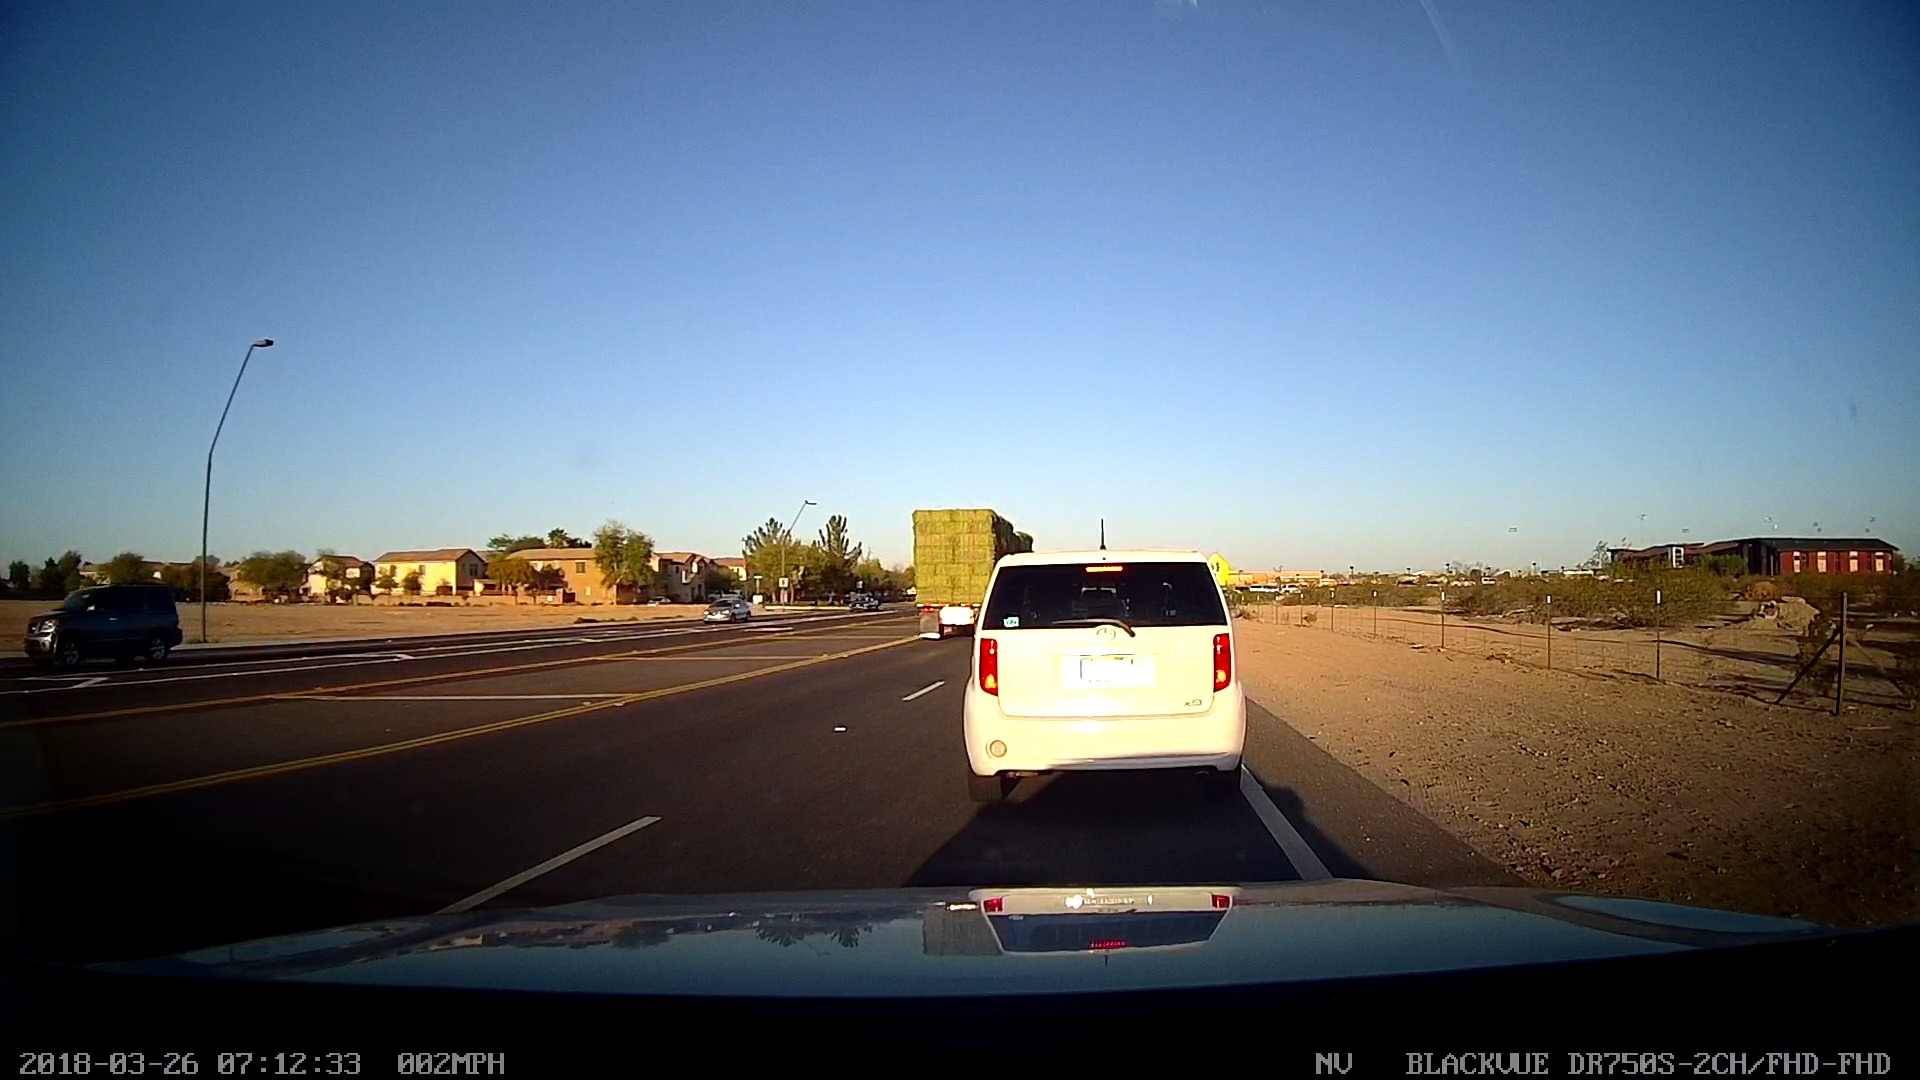plate: (1072, 646, 1147, 690)
vehicle: (964, 548, 1246, 804), (902, 494, 1021, 645), (27, 578, 181, 679), (700, 592, 749, 624)
